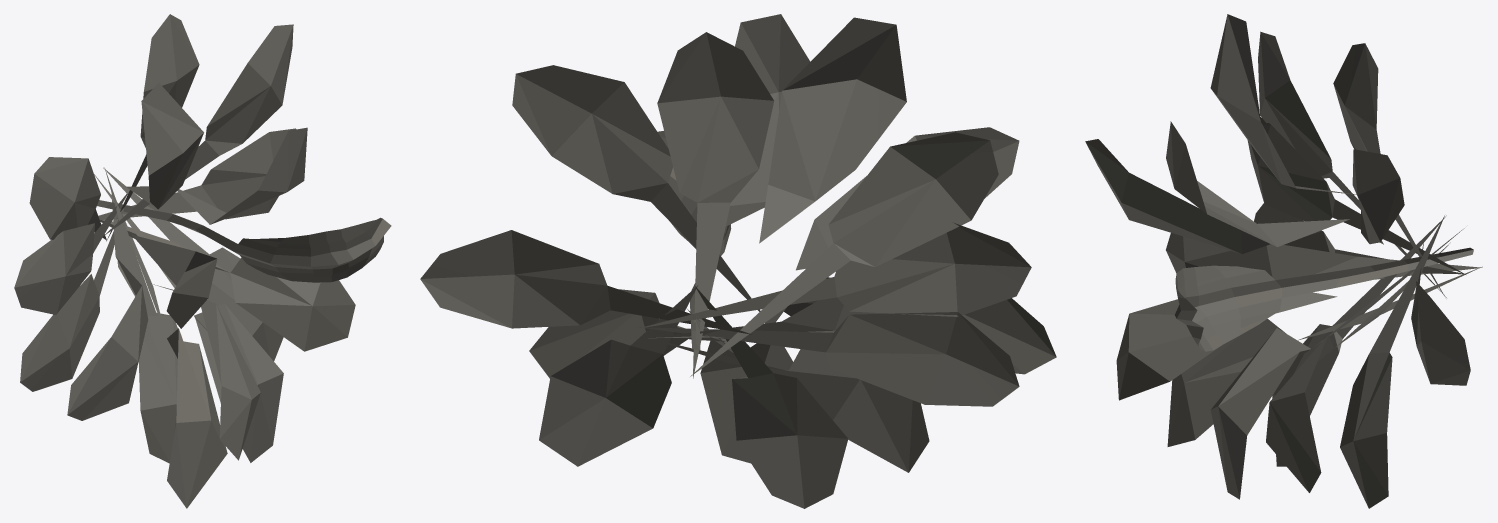
Rendered from 139_jungle_plant1.gltf.
3 renders of one model, left to right at view 1: azimuth 30°, elevation 25°; view 2: azimuth 150°, elevation 25°; view 3: azimuth 270°, elevation 25°, orthographic. The views are drawn at different scales.
Visible parts, largest first — view 1: jungle_plant1; view 2: jungle_plant1; view 3: jungle_plant1.
Boxes of the visible parts, x1,y1,x2,y2 form: jungle_plant1: [14, 14, 391, 508]; jungle_plant1: [420, 14, 1056, 508]; jungle_plant1: [1085, 14, 1482, 508].
Bounding box in the file's own units: 13.48 × 13.34 × 10.85.
1 material, 1 textured.
